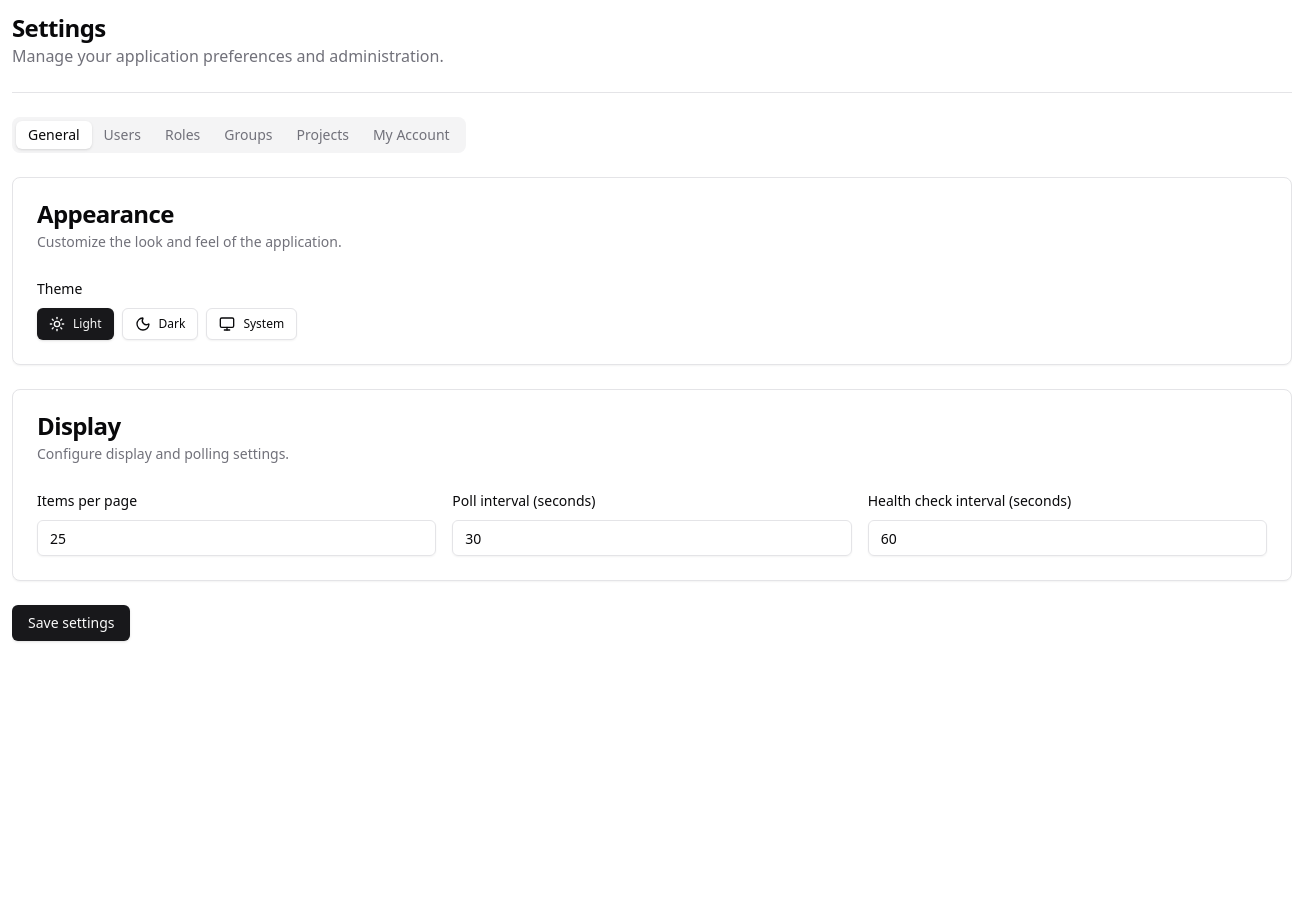
Test: SettingsPage › switches to My Account tab and shows Profile section
What coordinates should you click on to do the following:
click the tab "My Account"
I would click on:
 (411, 135)
Its box is [361,121,462,149].
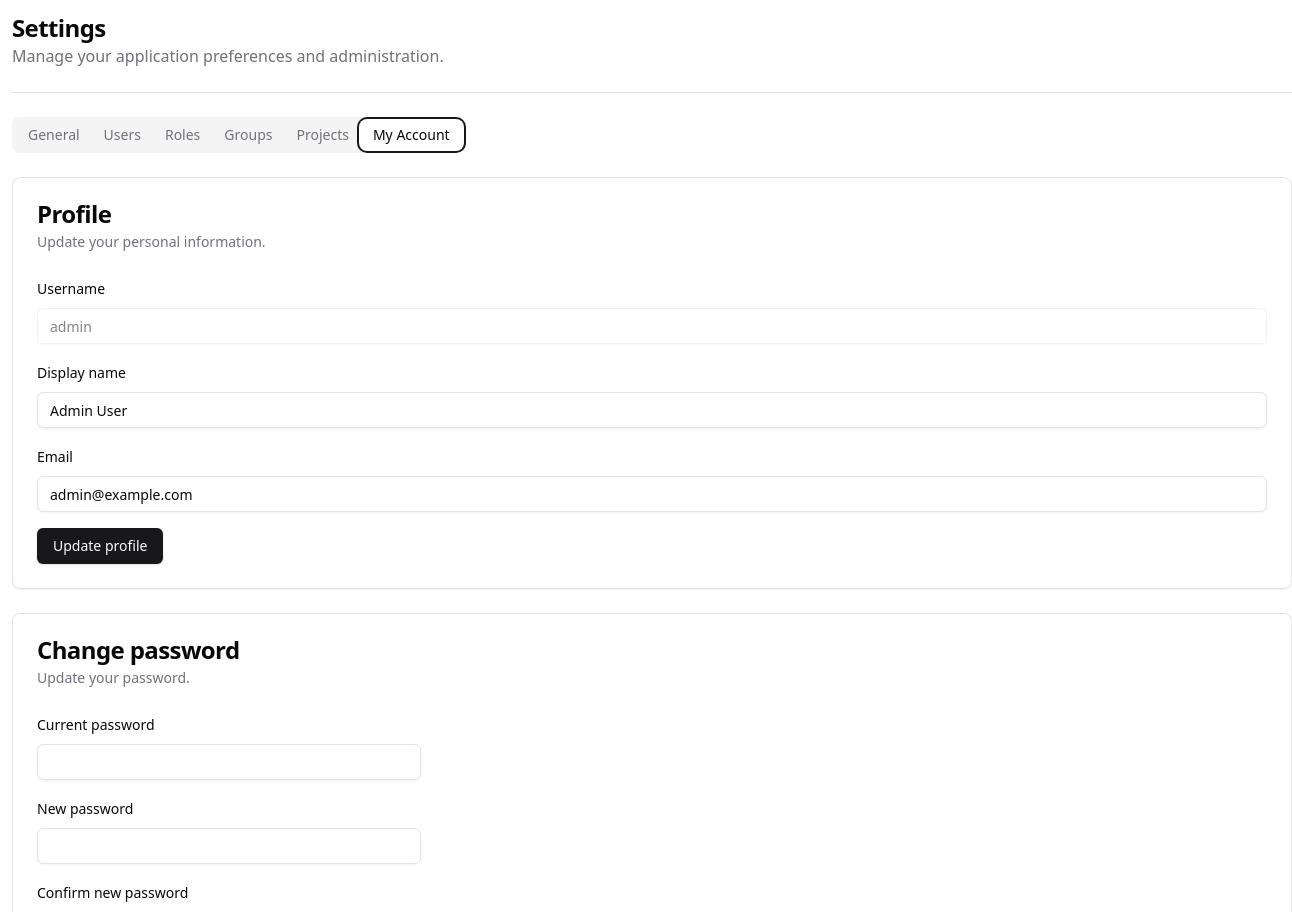
Now the heading "Profile" is shown, box [37,197,111,230]
